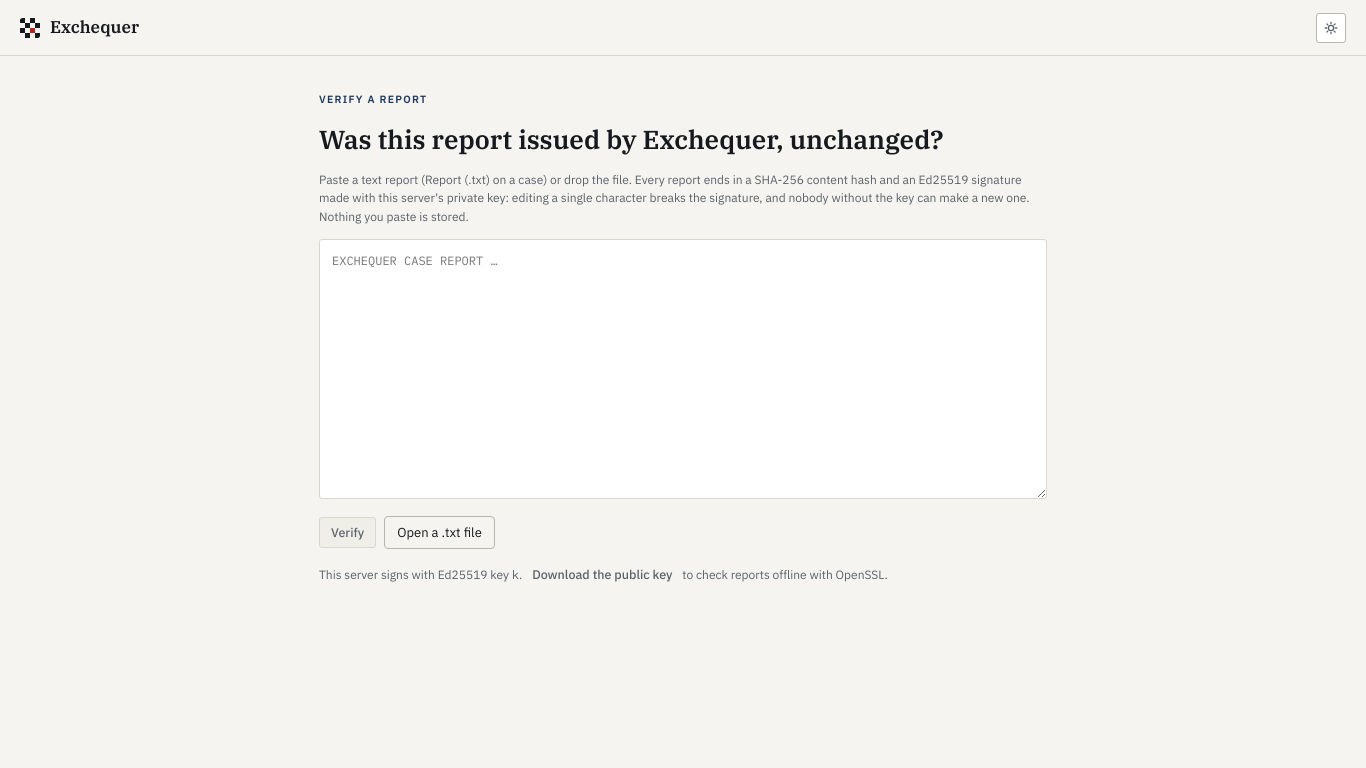
Verify page › names an edited report as changed
Type "x" into the text box named "Report text" at [683, 368], box top-left (319, 238), bottom-right (1047, 498)
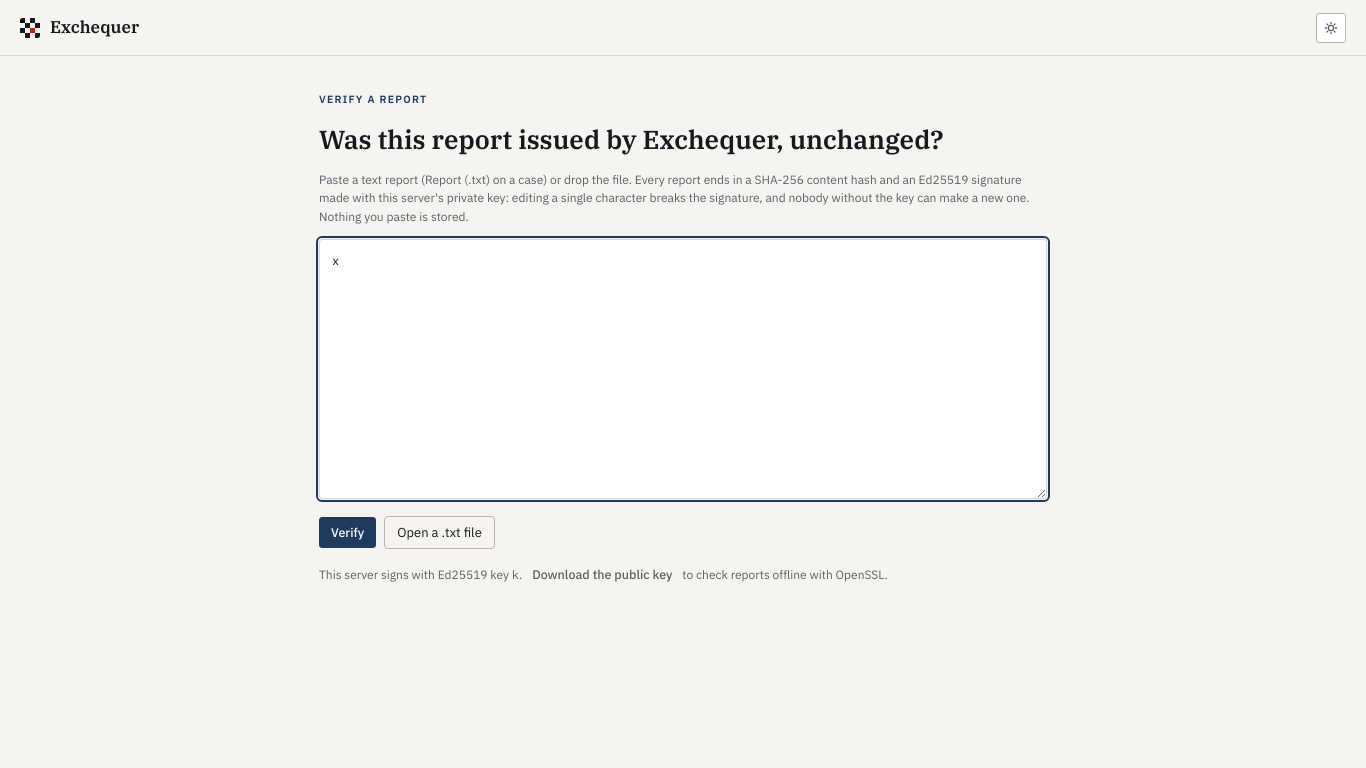
Click the button "Verify" at [348, 533], box top-left (319, 517), bottom-right (376, 548)
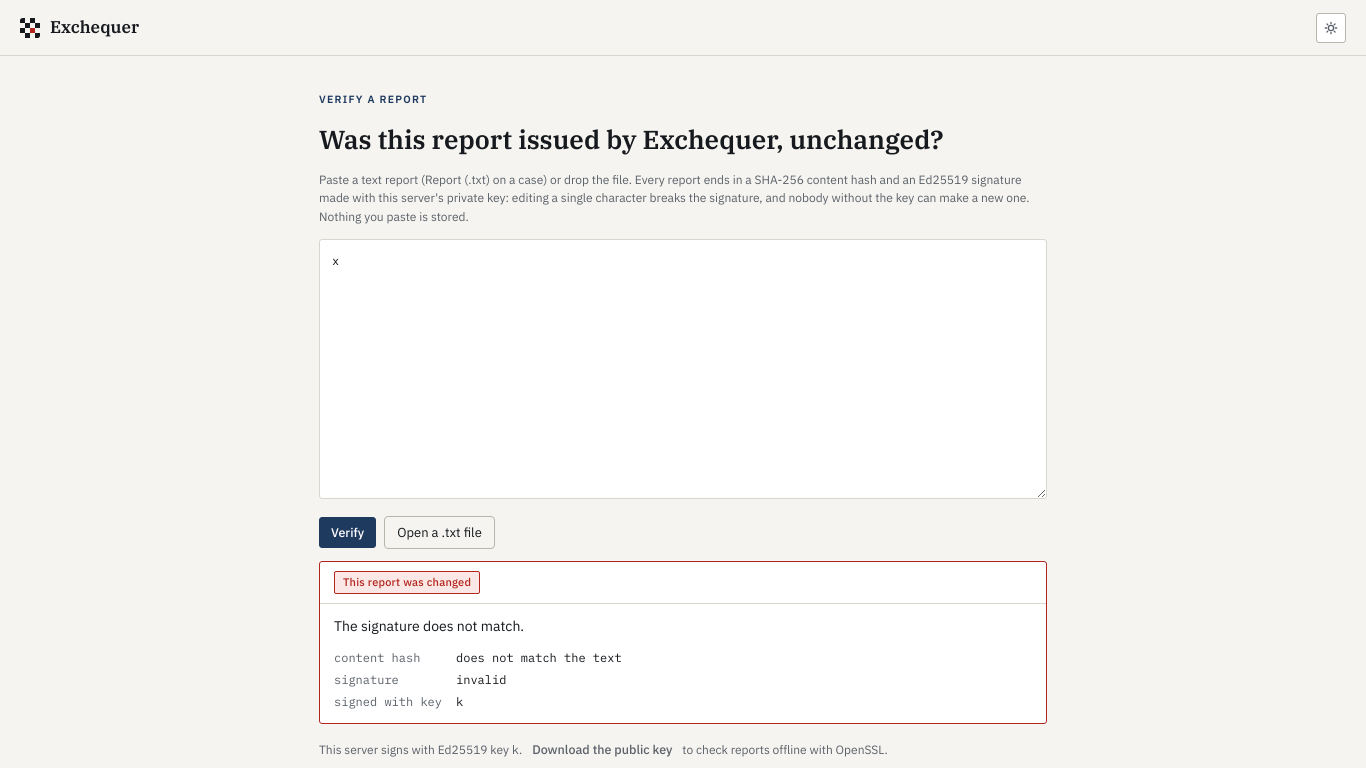
Check: the message shows "This report was changed", box top-left (343, 575), bottom-right (471, 589)
